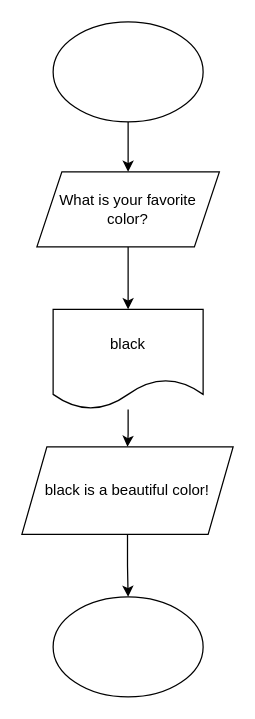
This 255x719 diagram has some shape labels left out. Here are the shapes that lost their labels. From the top down, the box of each, then its label:
(52, 21, 203, 122): START
(52, 596, 203, 697): STOP
